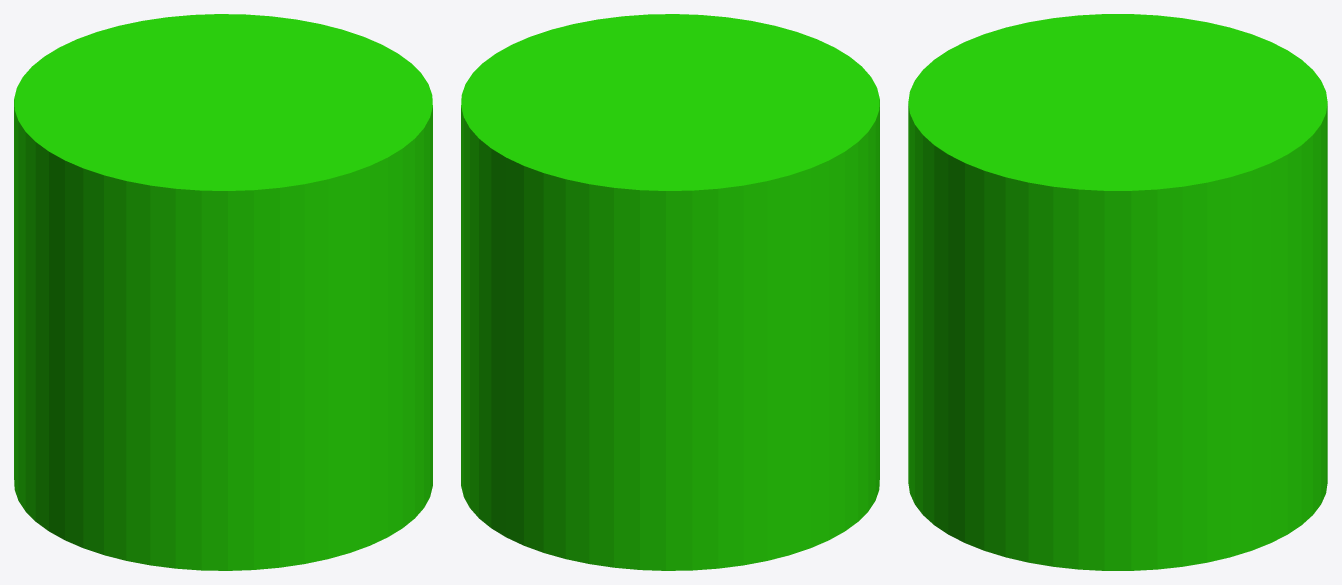
3 renders of one model, left to right at view 1: azimuth 30°, elevation 25°; view 2: azimuth 150°, elevation 25°; view 3: azimuth 270°, elevation 25°, orthographic.
Visible parts, largest first — view 1: Cylinder; view 2: Cylinder; view 3: Cylinder.
Boxes of the visible parts, <box> form: Cylinder: <box>14,14,432,570</box>; Cylinder: <box>461,14,879,570</box>; Cylinder: <box>908,14,1327,570</box>.
Size of the model in its own units: 1.56 by 1.56 by 1.56.
